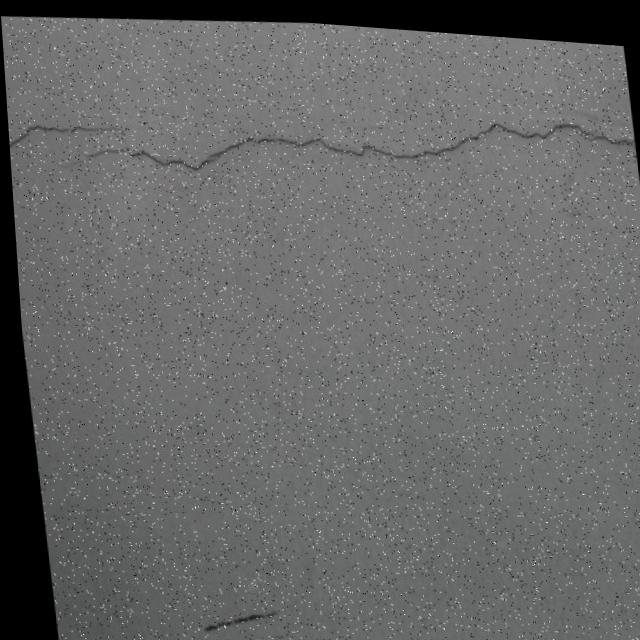Crack: (3, 62, 640, 224)
